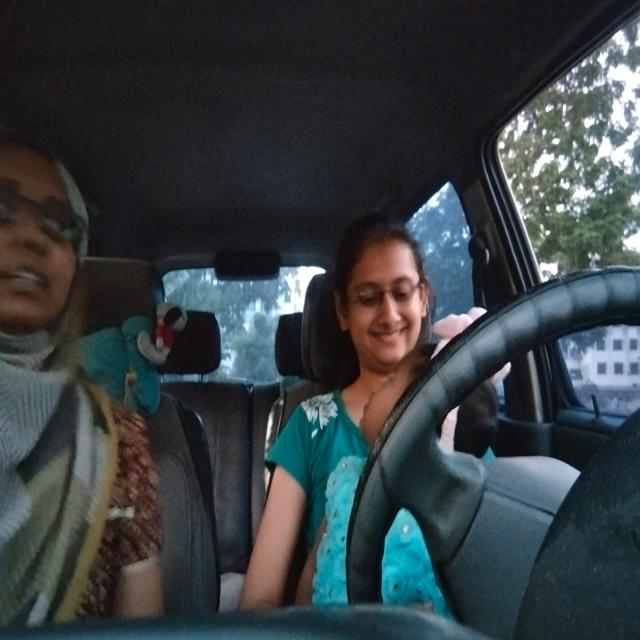child: (353, 367, 432, 447)
person: (0, 119, 87, 336), (329, 223, 438, 362)
